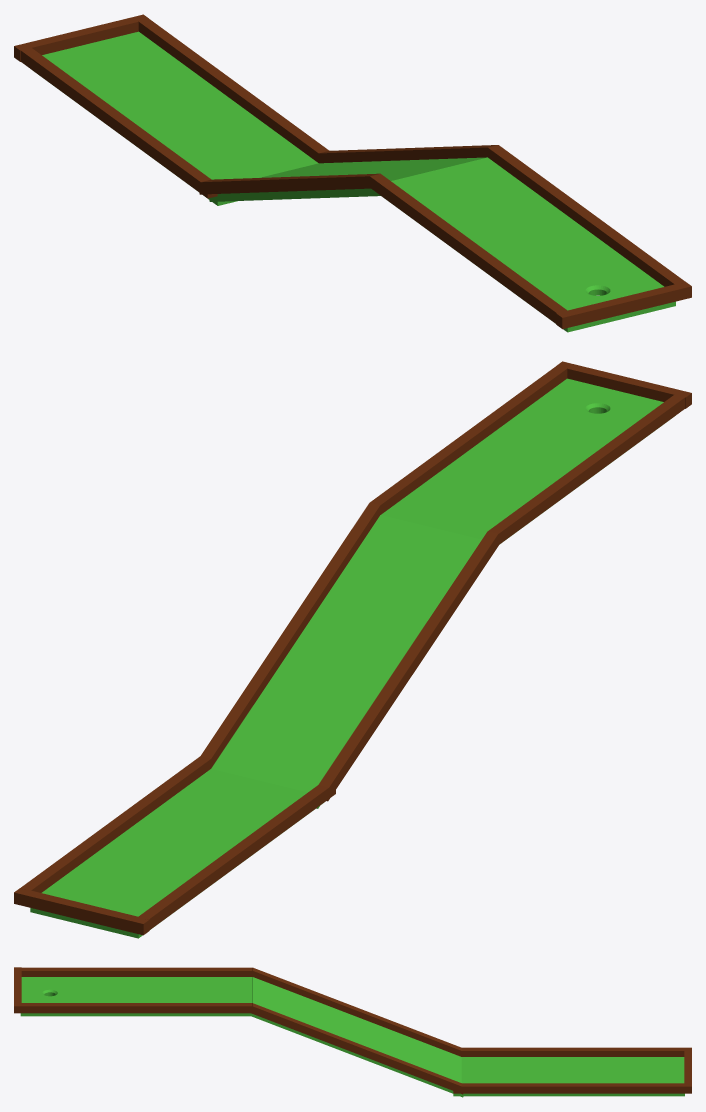
Rendered from holeOneColliders.glb.
The picture shows the model from 3 angles, top to bottom: view 1: azimuth 30°, elevation 25°; view 2: azimuth 150°, elevation 25°; view 3: azimuth 270°, elevation 25°; orthographic projection. The views are drawn at different scales.
Parts seen in each view (by area): view 1: Cube.002, Cube, Cube.005, Cube.003, Cube.008, Cube.006, Cube.001, Cube.004, Cube.010, Cube.007, Cube.009; view 2: Cube.001, Cube.002, Cube, Cube.004, Cube.007, Cube.005, Cube.003, Cube.008, Cube.006, Cube.009, Cube.010; view 3: Cube, Cube.002, Cube.001, Cube.008, Cube.006, Cube.007, Cube.005, Cube.003, Cube.004, Cube.009, Cube.010.
Part boxes in pixels (x1=…): Cube.002: x1=384, y1=157, x2=675, y2=332; Cube: x1=38, y1=31, x2=318, y2=205; Cube.005: x1=370, y1=174, x2=567, y2=323; Cube.003: x1=20, y1=47, x2=217, y2=198; Cube.008: x1=488, y1=145, x2=685, y2=286; Cube.006: x1=138, y1=18, x2=329, y2=163; Cube.001: x1=209, y1=157, x2=487, y2=201; Cube.004: x1=199, y1=173, x2=380, y2=194; Cube.010: x1=556, y1=282, x2=691, y2=329; Cube.007: x1=316, y1=145, x2=498, y2=162; Cube.009: x1=14, y1=14, x2=148, y2=61; Cube.001: x1=211, y1=515, x2=481, y2=808; Cube.002: x1=381, y1=378, x2=671, y2=539; Cube: x1=30, y1=768, x2=317, y2=938; Cube.004: x1=318, y1=531, x2=500, y2=801; Cube.007: x1=200, y1=502, x2=380, y2=758; Cube.005: x1=488, y1=394, x2=685, y2=543; Cube.003: x1=138, y1=783, x2=335, y2=929; Cube.008: x1=370, y1=365, x2=567, y2=514; Cube.006: x1=20, y1=754, x2=217, y2=892; Cube.009: x1=14, y1=888, x2=149, y2=935; Cube.010: x1=557, y1=361, x2=691, y2=408; Cube: x1=453, y1=1057, x2=684, y2=1096; Cube.002: x1=20, y1=977, x2=252, y2=1016; Cube.001: x1=249, y1=977, x2=463, y2=1097; Cube.008: x1=20, y1=1003, x2=252, y2=1013; Cube.006: x1=453, y1=1083, x2=684, y2=1093; Cube.007: x1=249, y1=1003, x2=465, y2=1094; Cube.005: x1=20, y1=967, x2=252, y2=976; Cube.003: x1=453, y1=1047, x2=684, y2=1056; Cube.004: x1=250, y1=967, x2=464, y2=1056; Cube.009: x1=684, y1=1047, x2=691, y2=1093; Cube.010: x1=14, y1=967, x2=21, y2=1013.
Bounding box in the file's own units: 2.39 × 2.7 × 17.54.
